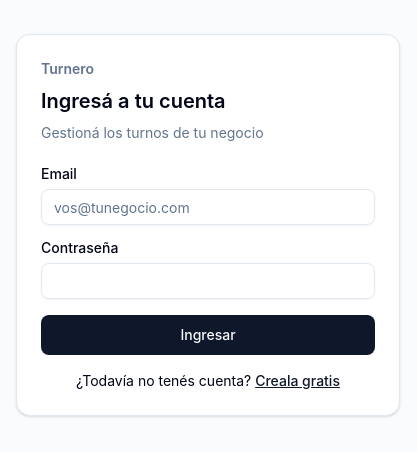
auth flow › maps the API problem code to a localized error
Type "owner@demo.local" into the field labelled "Email" at (208, 207), box [41,189,375,225]
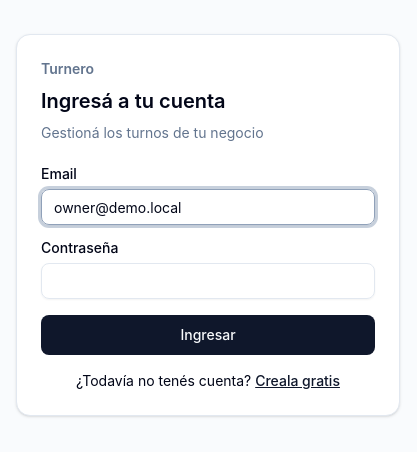
Type "wrong" into the password field labelled "Contraseña" at (208, 281), box [41,263,375,299]
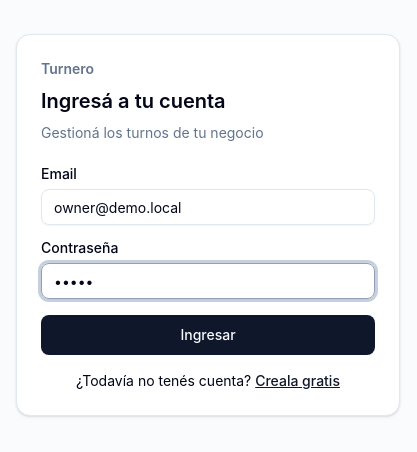
Click the button "Ingresar" at (208, 335), box [41,315,375,355]
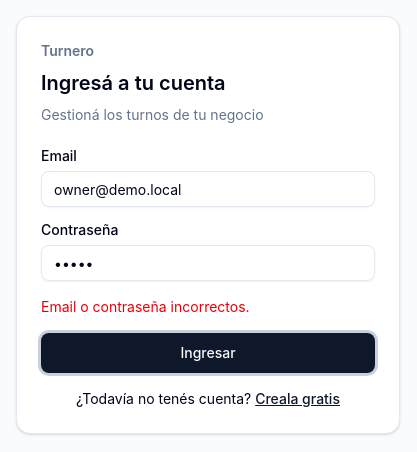
Result: the message reads "Email o contraseña incorrectos." at [41,298,250,315]
